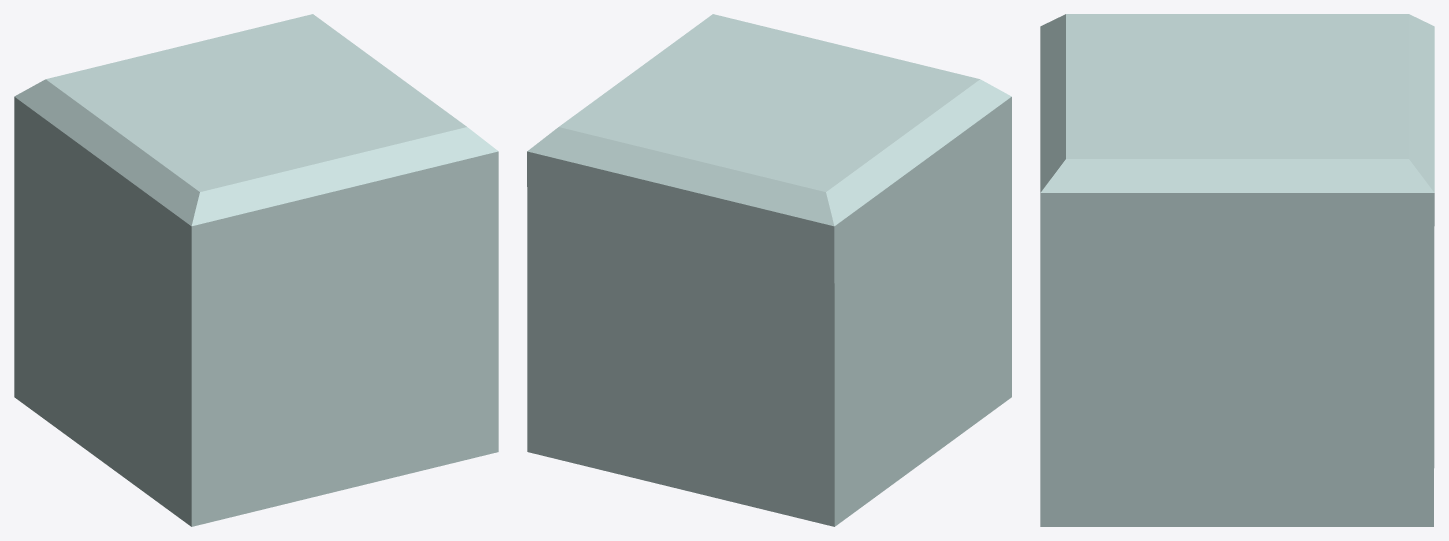
Rendered from Middle_Icetile_01.fbx.
3 views of the same model, side by side, from view 1: azimuth 30°, elevation 25°; view 2: azimuth 150°, elevation 25°; view 3: azimuth 270°, elevation 25° (orthographic). The views are drawn at different scales.
Visible parts, largest first — view 1: pCube1; view 2: pCube1; view 3: pCube1.
Boxes of the visible parts, box(x1,y1,x2,y2) form: pCube1: box(14, 14, 498, 526); pCube1: box(527, 14, 1011, 526); pCube1: box(1040, 14, 1434, 526).
Size of the model in its own units: 3 by 3 by 3.
